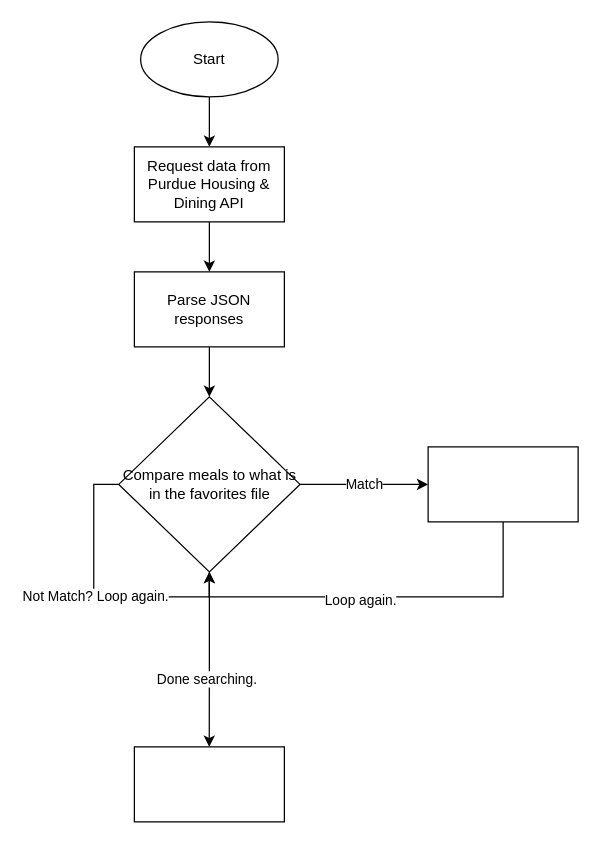
This 600x844 diagram has some shape labels left out. The shapes that lost their labels are listed below. From the top down, each one's centre as x and y in pixels, then its label:
At (x=502, y=484): "Add to list of outputs".
At (x=208, y=784): "Output matched results".
